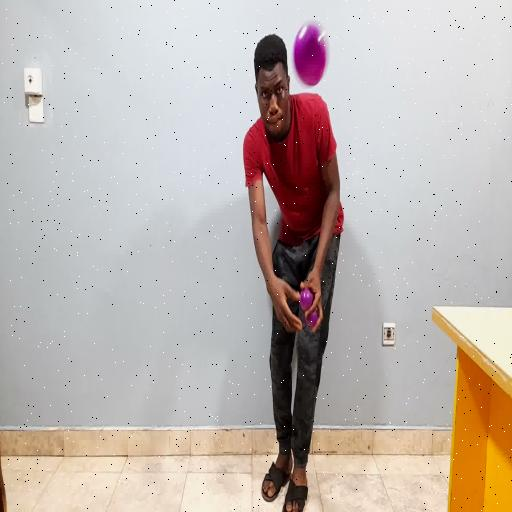plastic-ball: (294, 22, 327, 86)
